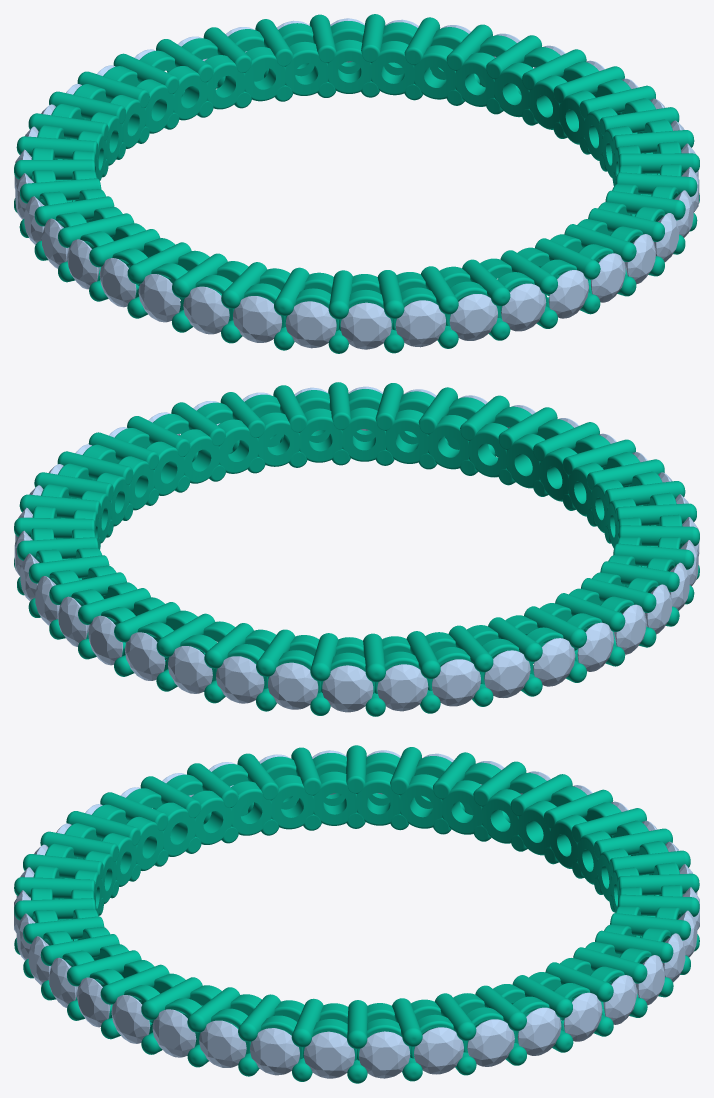
3 renders of one model, top to bottom at view 1: azimuth 30°, elevation 25°; view 2: azimuth 150°, elevation 25°; view 3: azimuth 270°, elevation 25°, orthographic.
Visible parts, largest first — view 1: Head Prong (×38), Bezel (×24), Diamond_Round (×17); view 2: Head Prong (×38), Bezel (×25), Diamond_Round (×17); view 3: Head Prong (×38), Bezel (×23), Diamond_Round (×16).
Part boxes in pixels (x1=…): Head Prong (×38): x1=14, y1=14, x2=699, y2=319; Bezel (×24): x1=77, y1=21, x2=632, y2=180; Diamond_Round (×17): x1=24, y1=190, x2=693, y2=349; Head Prong (×38): x1=14, y1=382, x2=699, y2=682; Bezel (×25): x1=81, y1=389, x2=636, y2=693; Diamond_Round (×17): x1=20, y1=553, x2=689, y2=712; Head Prong (×38): x1=14, y1=745, x2=699, y2=1048; Bezel (×23): x1=84, y1=752, x2=628, y2=903; Diamond_Round (×16): x1=28, y1=933, x2=685, y2=1078.
Bounding box in the file's own units: 2.83 × 0.2538 × 2.82.
